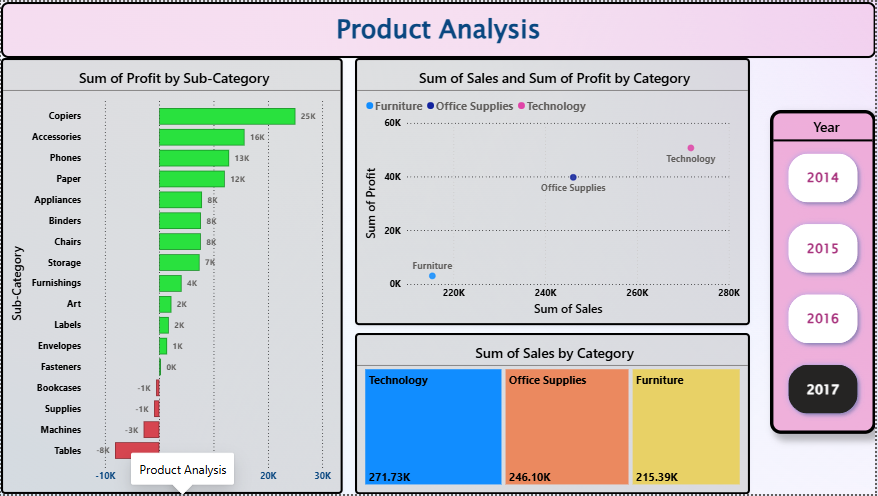

Layout of this report page (visuals, bound fields, positions):
{"tool":"powerbi","page":{"name":"Product Analysis","canvas":[1280,720],"ordinal":1},"visuals":[{"type":"clusteredBarChart","fields":{"Category":["clean.Sub-Category"],"Y":["Sum(clean.Profit)"]},"box":[0,82,500.5,638],"z":0},{"type":"treemap","fields":{"Values":["Sum(clean.Sales)"],"Details":["clean.Category"]},"box":[518,484.4,578,235.6],"z":1000},{"type":"scatterChart","fields":{"X":["Sum(clean.Sales)"],"Y":["Sum(clean.Profit)"],"Series":["clean.Category"]},"box":[518,82,578,390.7],"z":2000},{"type":"advancedSlicerVisual","fields":{"Values":["clean.Order Date.Variation.Date Hierarchy.Year"]},"box":[1125.4,158,155.1,474.1],"z":3000},{"type":"textbox","box":[0,0,1280.5,82],"z":4000}]}

Visuals, with their boxes in screenshot pixels (x1, y1, x2, y2), scaled from the page's 1280x720 canvas onto the 878x496 screenshot:
clusteredBarChart - clean.Sub-Category x Sum(clean.Profit): bbox=(0, 56, 343, 495)
treemap - Sum(clean.Sales) x clean.Category: bbox=(355, 334, 752, 495)
scatterChart - Sum(clean.Sales) x Sum(clean.Profit): bbox=(355, 56, 752, 326)
advancedSlicerVisual - clean.Order Date.Variation.Date Hierarchy.Year: bbox=(772, 109, 877, 435)
textbox: bbox=(0, 0, 877, 56)
